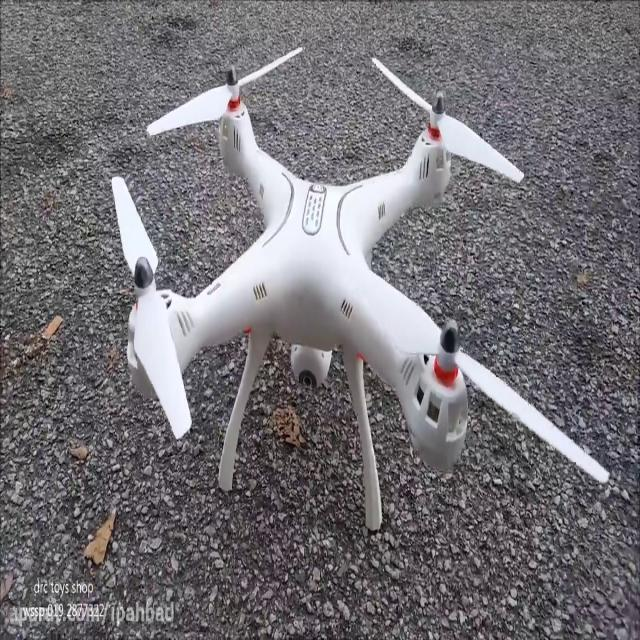drone: (107, 40, 615, 537)
